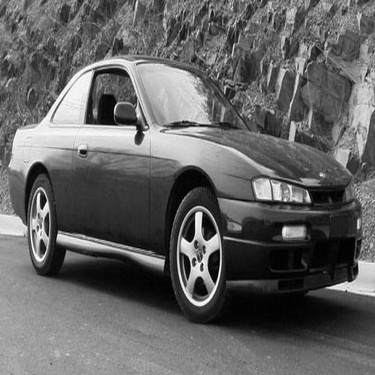car: (6, 48, 362, 328)
